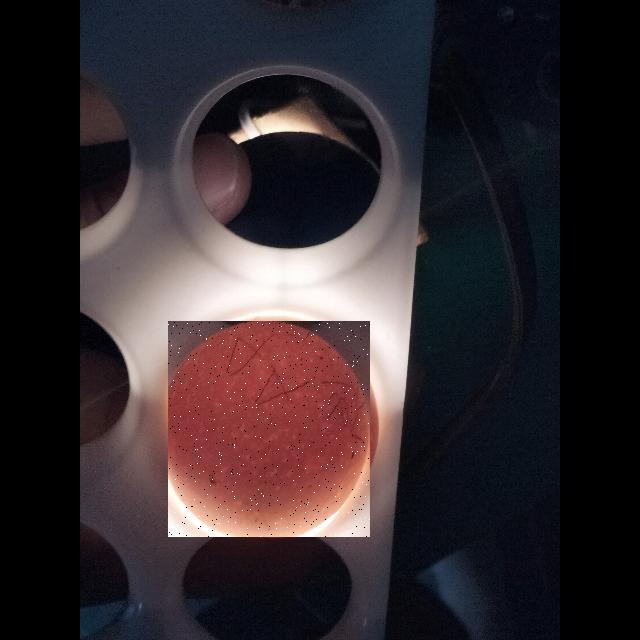Infertile: (168, 321, 370, 537)
